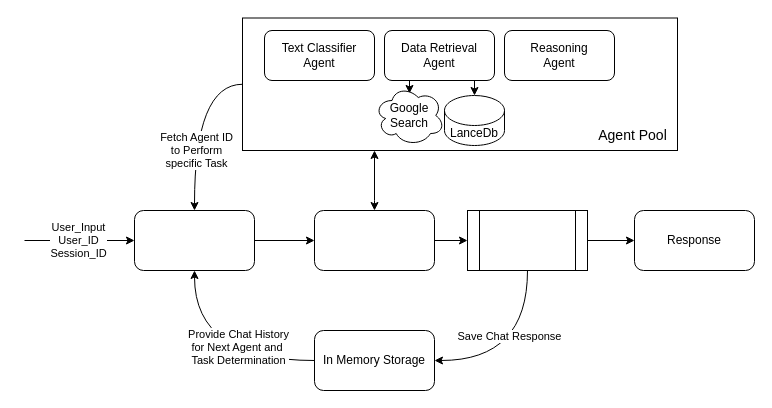
The diagram is 772 pixels wide and 408 high, and some of its shapes have lost their labels. Each missing label, with the centre of its shape:
Agent Request Processing: point 527,240
Classifier: point 194,240
Select Agent: point 374,240
